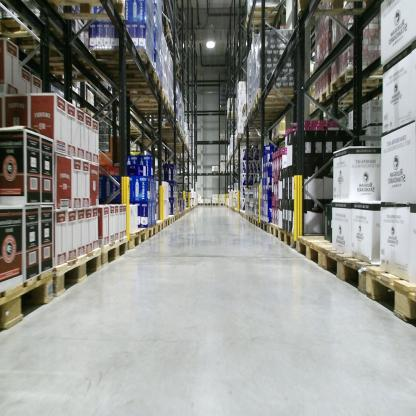pallet: (1, 15, 83, 61), (0, 267, 55, 334), (365, 263, 415, 326), (321, 245, 374, 295), (52, 246, 103, 297), (91, 48, 157, 82), (40, 53, 104, 85), (45, 1, 129, 25), (297, 233, 342, 274), (293, 0, 379, 17), (106, 70, 164, 95), (329, 68, 383, 93), (314, 85, 371, 108), (254, 89, 307, 110), (242, 3, 281, 30), (100, 234, 128, 269), (125, 91, 172, 111), (250, 100, 299, 118), (135, 103, 177, 121), (279, 225, 299, 252), (124, 228, 146, 250), (234, 131, 268, 144), (149, 121, 180, 134), (155, 128, 185, 140), (143, 222, 157, 242), (224, 108, 239, 121), (269, 222, 280, 239), (274, 130, 288, 142), (260, 219, 271, 234), (165, 136, 187, 143), (253, 214, 262, 229), (171, 145, 190, 152), (155, 219, 164, 232), (162, 217, 170, 230), (166, 214, 175, 225), (241, 103, 249, 115), (248, 213, 255, 225), (172, 212, 178, 223), (245, 211, 250, 223), (242, 209, 246, 219), (177, 211, 182, 219), (239, 209, 244, 216), (220, 170, 227, 175), (181, 210, 185, 217)
